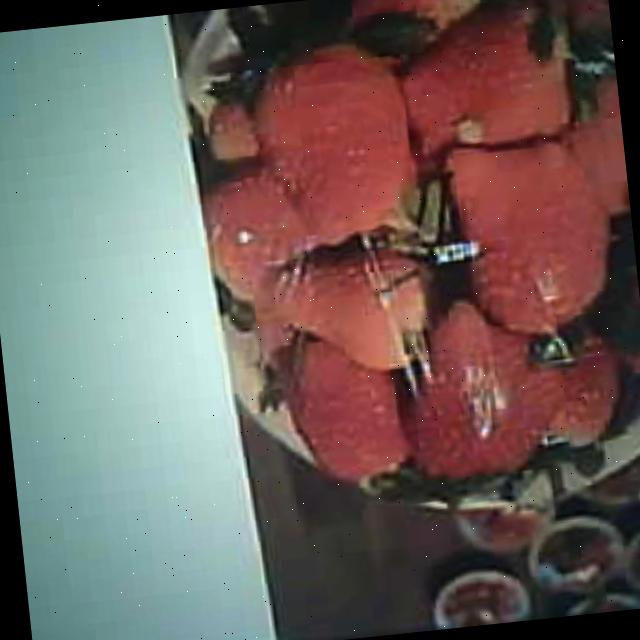strawberry: (444, 130, 615, 338), (252, 40, 415, 244)
